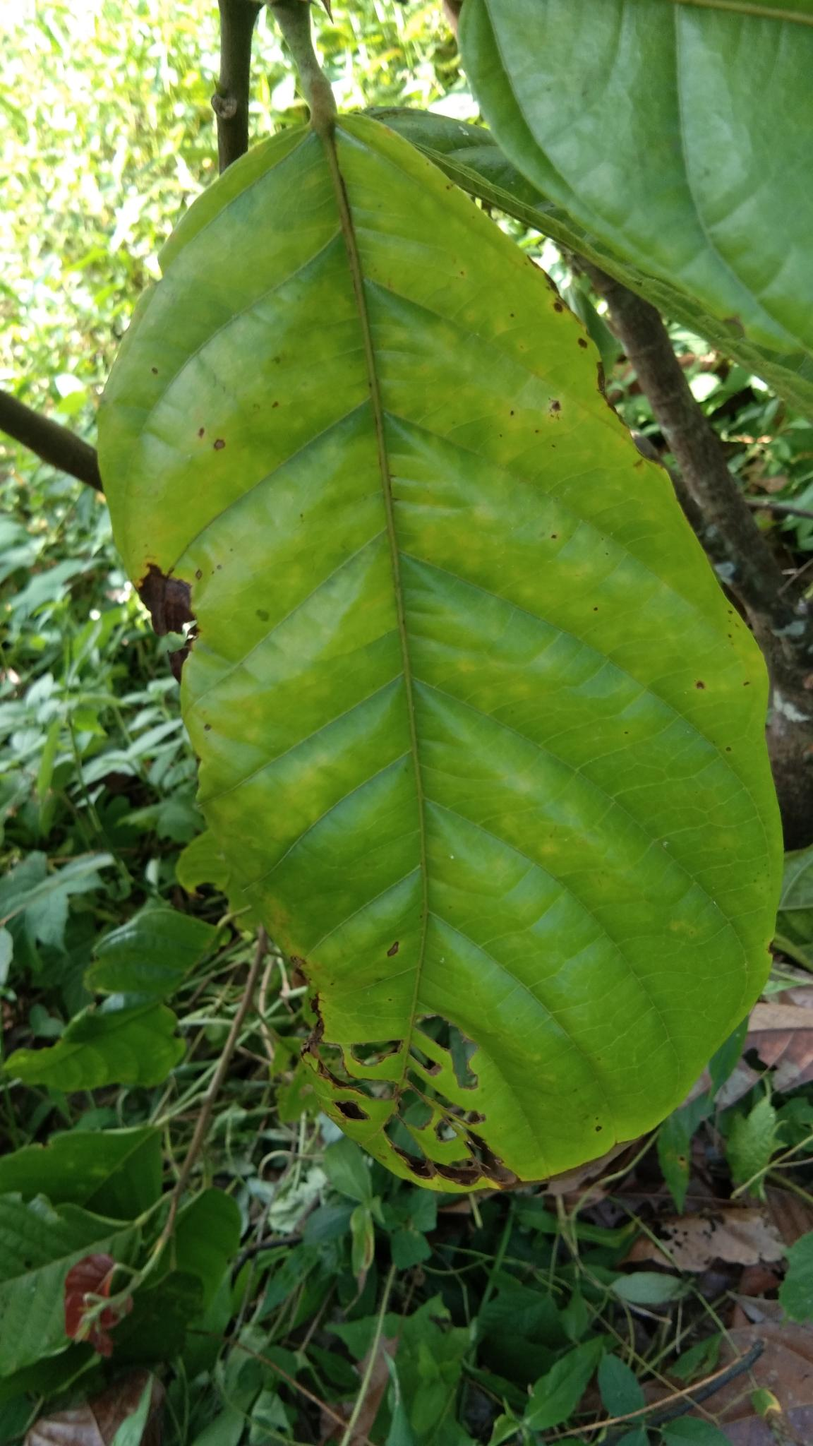Fosforo: (73, 81, 782, 1260)
